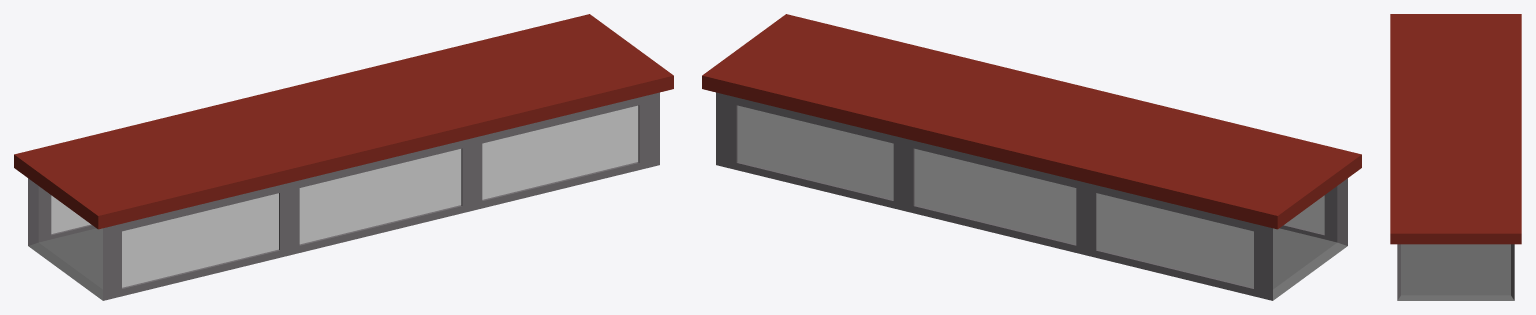
Rendered from Automatic Carwash.fbx.
3 views of the same model, side by side, from view 1: azimuth 30°, elevation 25°; view 2: azimuth 150°, elevation 25°; view 3: azimuth 270°, elevation 25° (orthographic). The views are drawn at different scales.
Parts seen in each view (by area): view 1: Cube.070, Window.008, Window.004, Window.007, Window.005; view 2: Cube.070, Window.009, Window.005, Window.006, Window.004; view 3: Cube.070.
Part boxes in pixels (x1,y1,x2,y2): Cube.070: [14, 14, 673, 300]; Window.008: [299, 149, 461, 244]; Window.004: [122, 193, 278, 287]; Window.007: [482, 105, 638, 199]; Window.005: [51, 195, 90, 233]; Cube.070: [702, 14, 1361, 300]; Window.009: [914, 149, 1076, 244]; Window.005: [1096, 193, 1253, 287]; Window.006: [737, 105, 893, 199]; Window.004: [1285, 195, 1324, 233]; Cube.070: [1390, 14, 1521, 300].
Bounding box in the file's own units: 1932 × 291 × 489.
